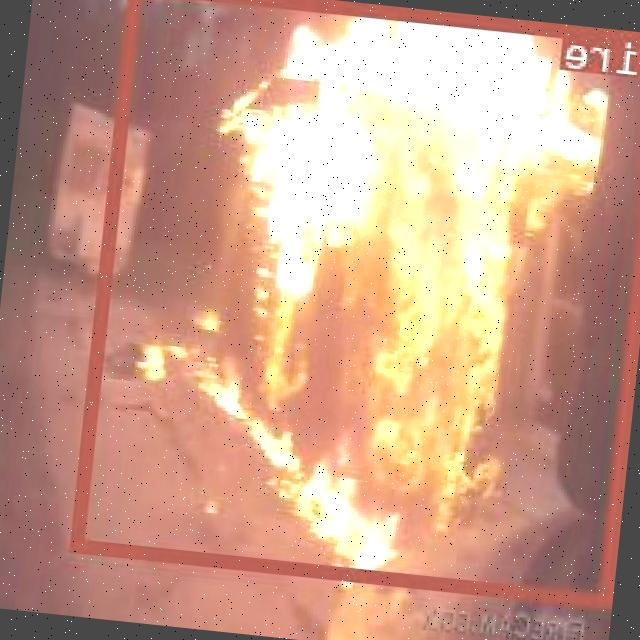fire: (71, 0, 640, 606)
